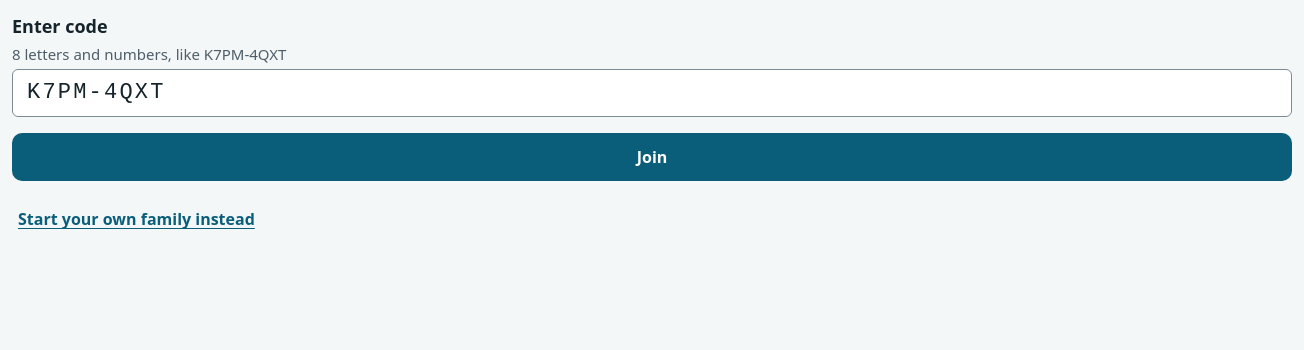
invite and join states › goes to Today for an existing member, and offers Profile when already in another family
Earlier steps of the test are not shown.
Click the button "Join" at (652, 157), box [12,133,1292,181]
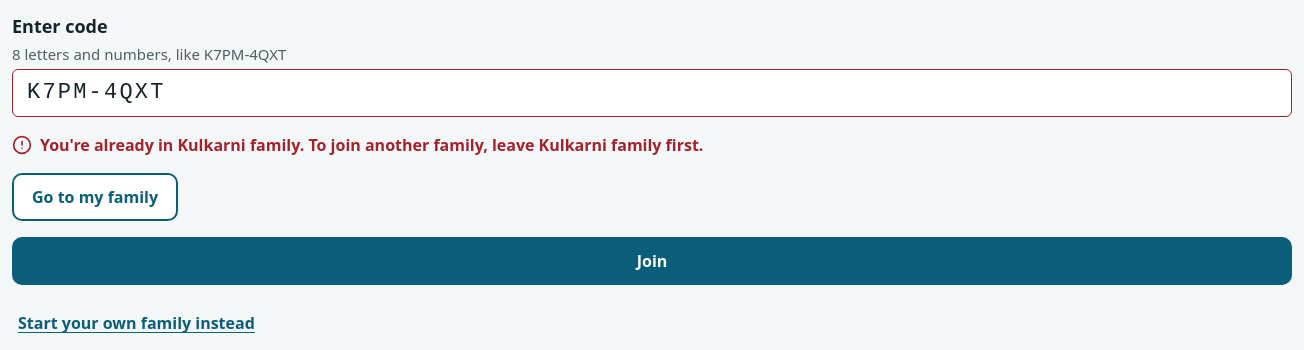
Expected: the text "Kulkarni family" is shown, [40,134,703,156]
